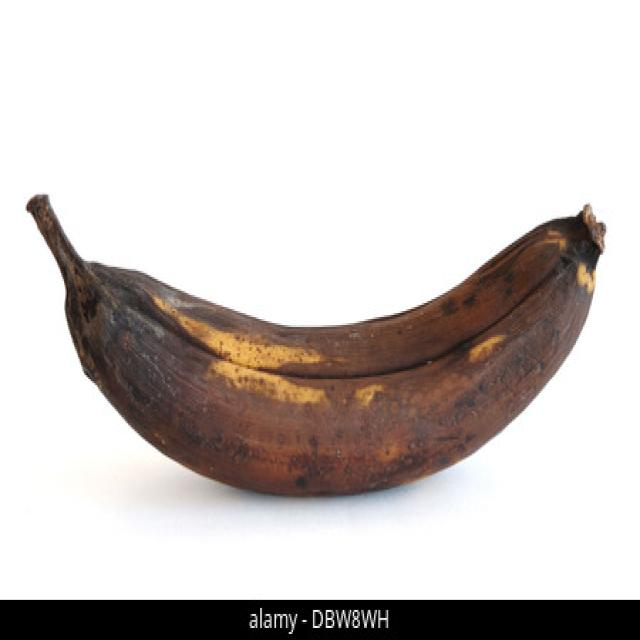Rotten: (28, 190, 608, 499)
